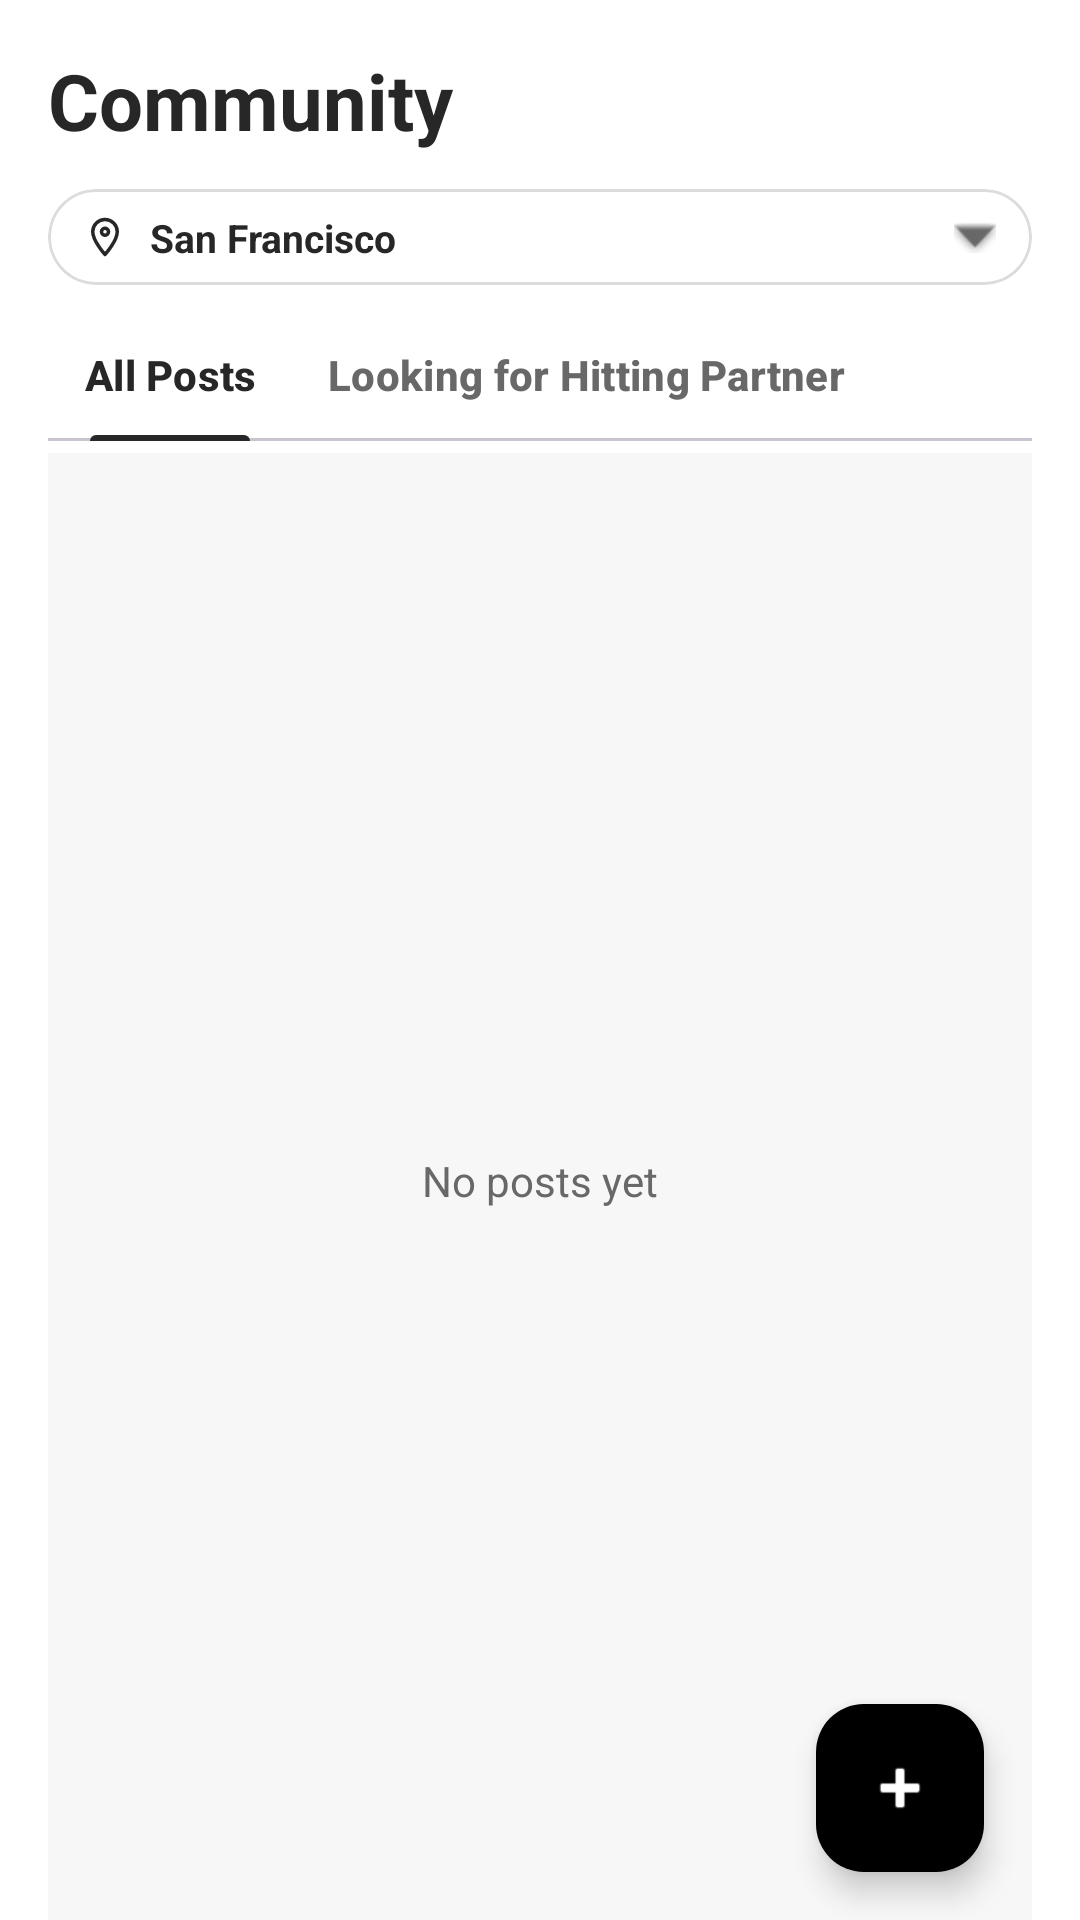

Screen size 1080 × 1920. Icon name, then its center in pixels as (x=x, y=y):
Create Post: (x=900, y=1788)
Dropdown chevron: (x=975, y=237)
Location pin: (x=105, y=237)
